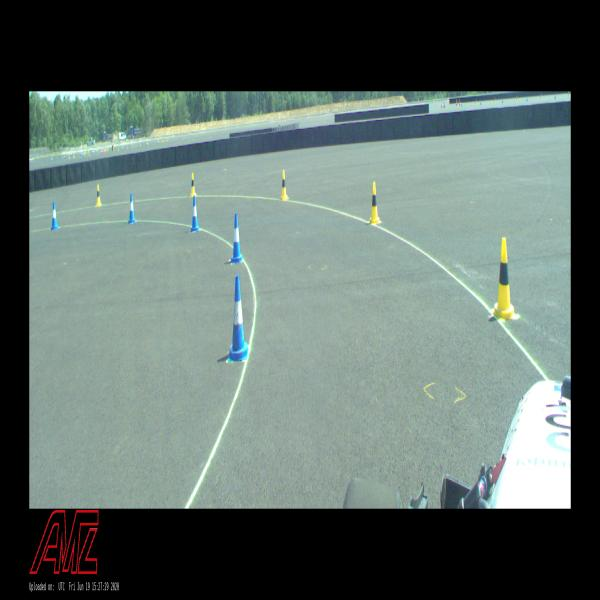blue_cone: (228, 276, 248, 360), (230, 214, 242, 262), (191, 196, 199, 231), (128, 194, 135, 223), (51, 202, 58, 230)
yellow_cone: (492, 237, 515, 321), (370, 182, 379, 223), (281, 170, 287, 199), (190, 173, 195, 196), (96, 185, 101, 206)
